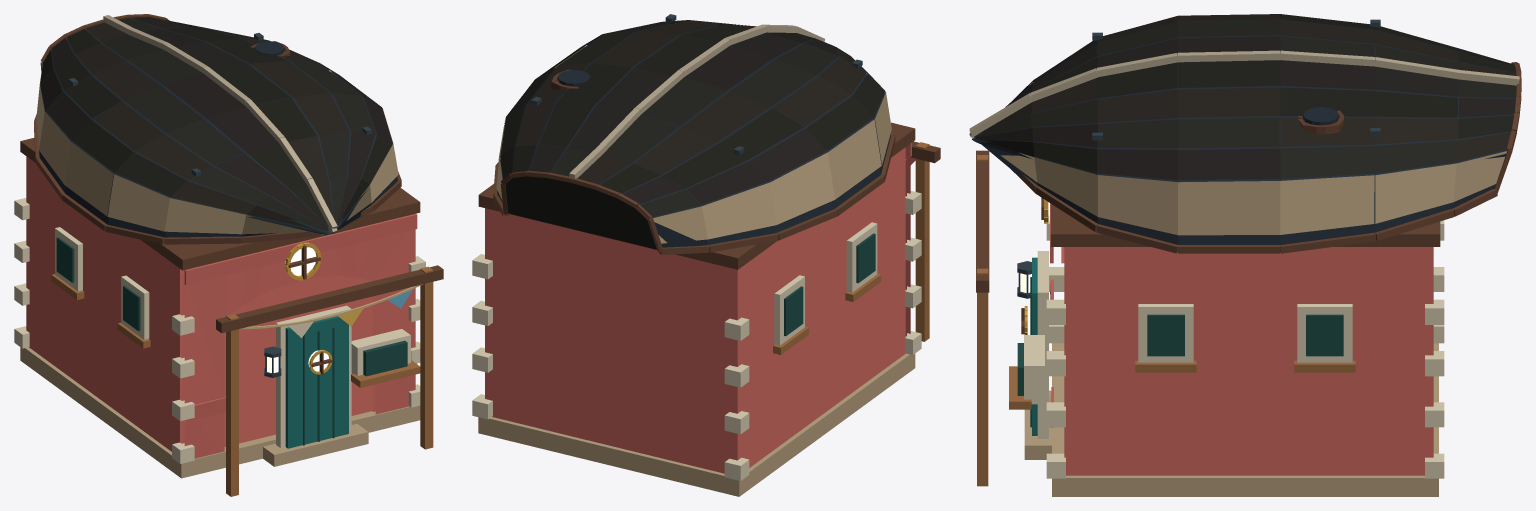
File: boat-shop-medium-coral.glb
3 renders of one model, left to right at view 1: azimuth 30°, elevation 25°; view 2: azimuth 150°, elevation 25°; view 3: azimuth 270°, elevation 25°, orthographic. The views are drawn at different scales.
Visible parts, largest first — view 1: boat-shop-medium-coral; view 2: boat-shop-medium-coral; view 3: boat-shop-medium-coral.
Boxes of the visible parts, x1,y1,x2,y2 form: boat-shop-medium-coral: (14, 14, 443, 496); boat-shop-medium-coral: (472, 14, 940, 496); boat-shop-medium-coral: (969, 14, 1521, 496).
Size of the model in its own units: 4.54 by 4.72 by 6.3.
